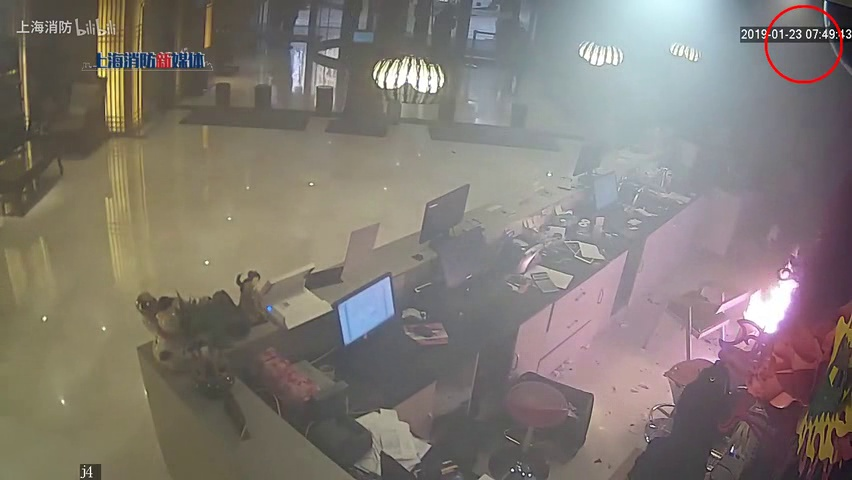fire: (741, 273, 800, 339)
